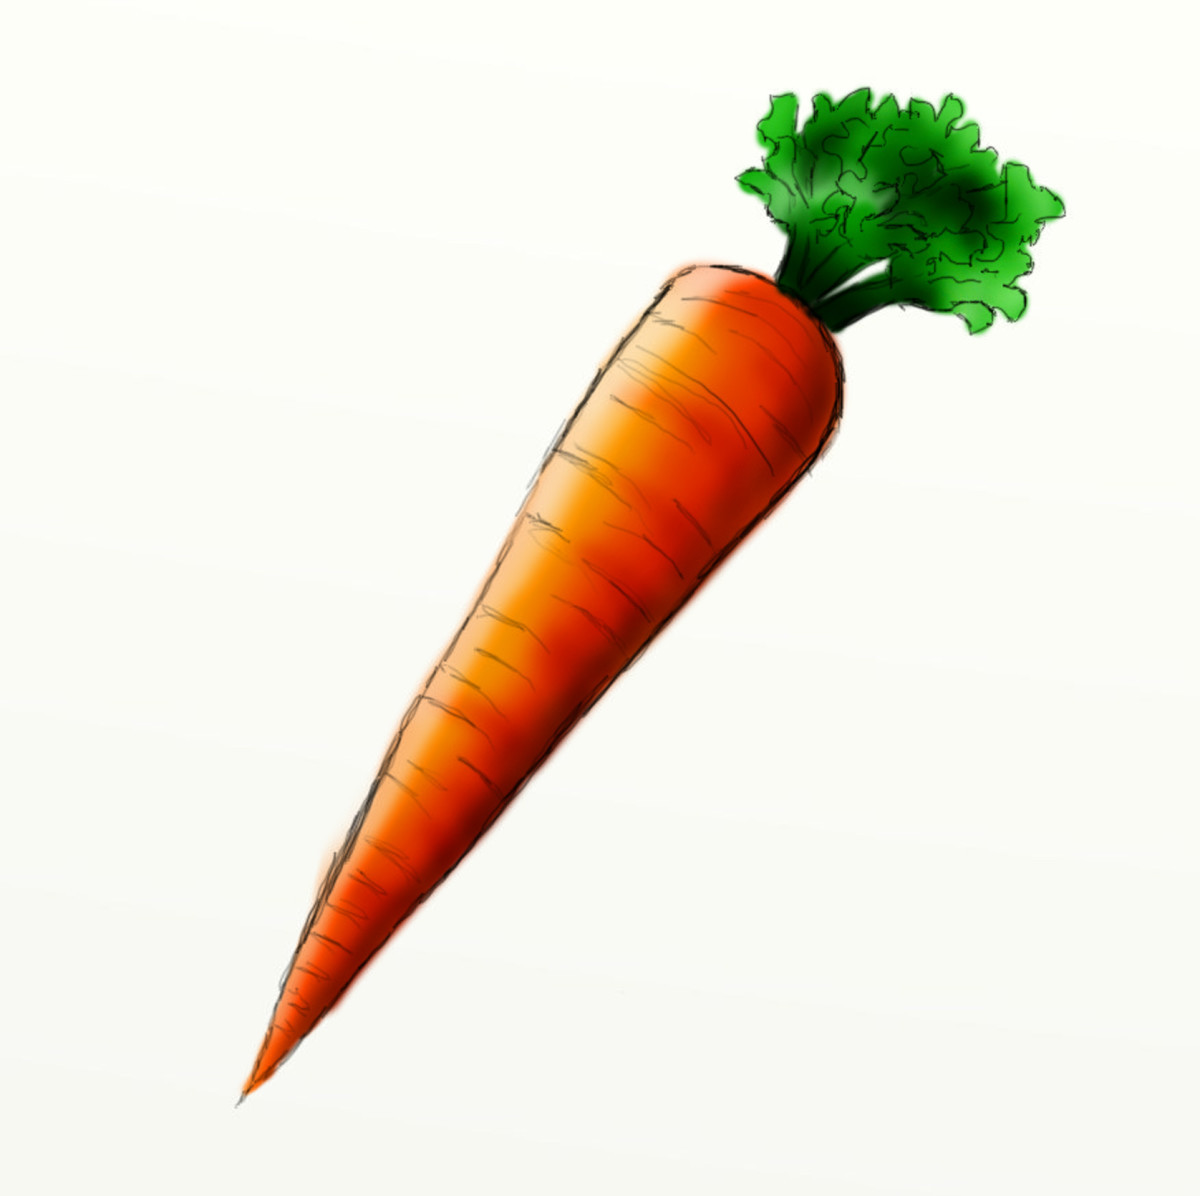carrot: (231, 83, 1082, 1112)
